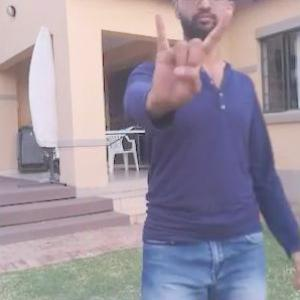takeoff-hand: (150, 1, 237, 115)
